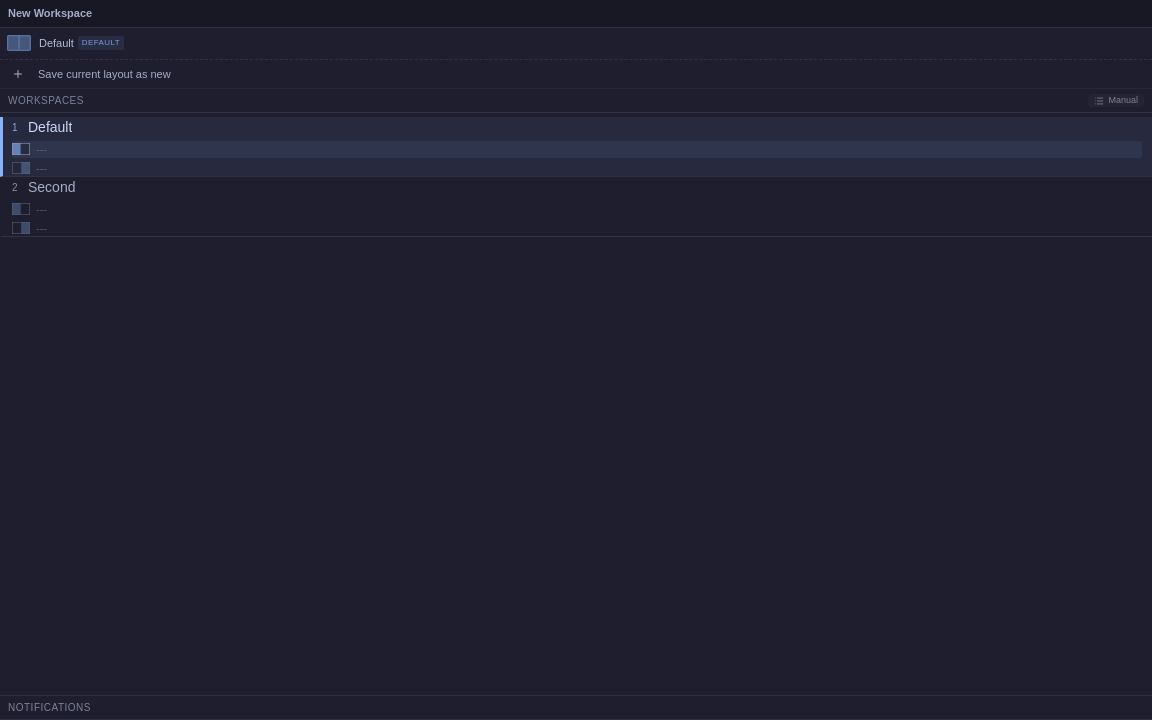
Test: WorkspaceSelectorView › starts the undo grace period on the first close click even with confirmation enabled
Step 1. Hover over the element showing "2 Second --- ---" → [576, 207], box [0,177,1151,237]
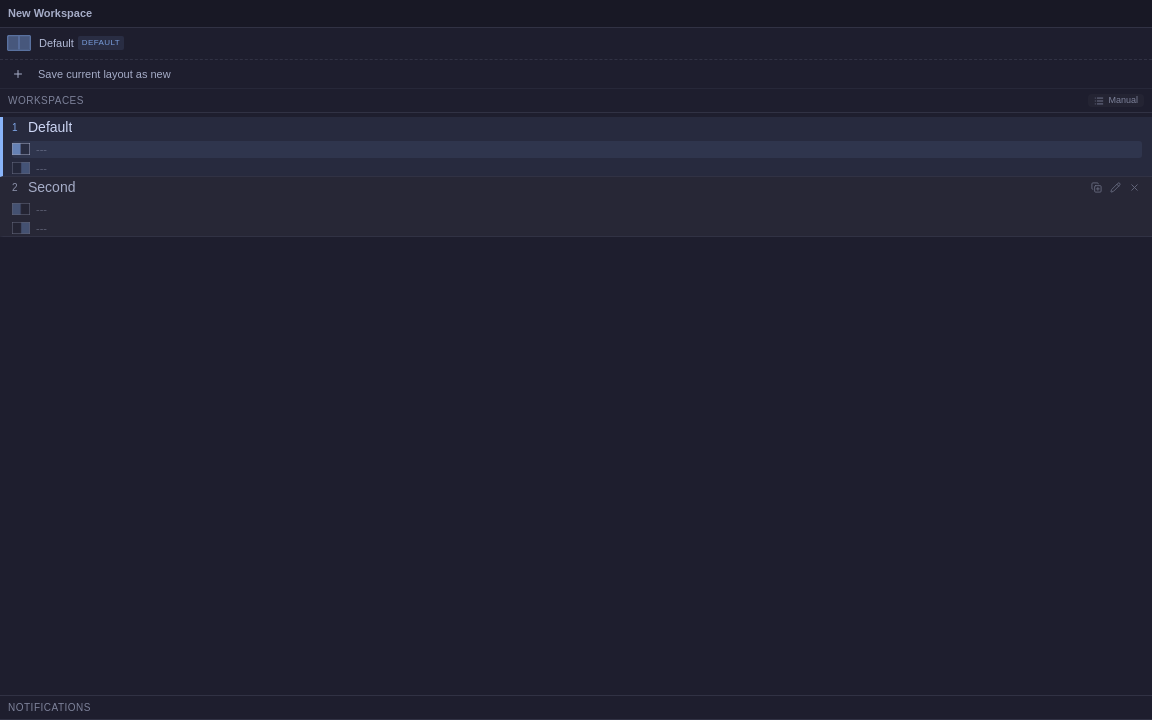
Step 2. Click the button named "Close workspace (Ctrl+Alt+W)" → [1134, 187], box [1127,180,1142,194]
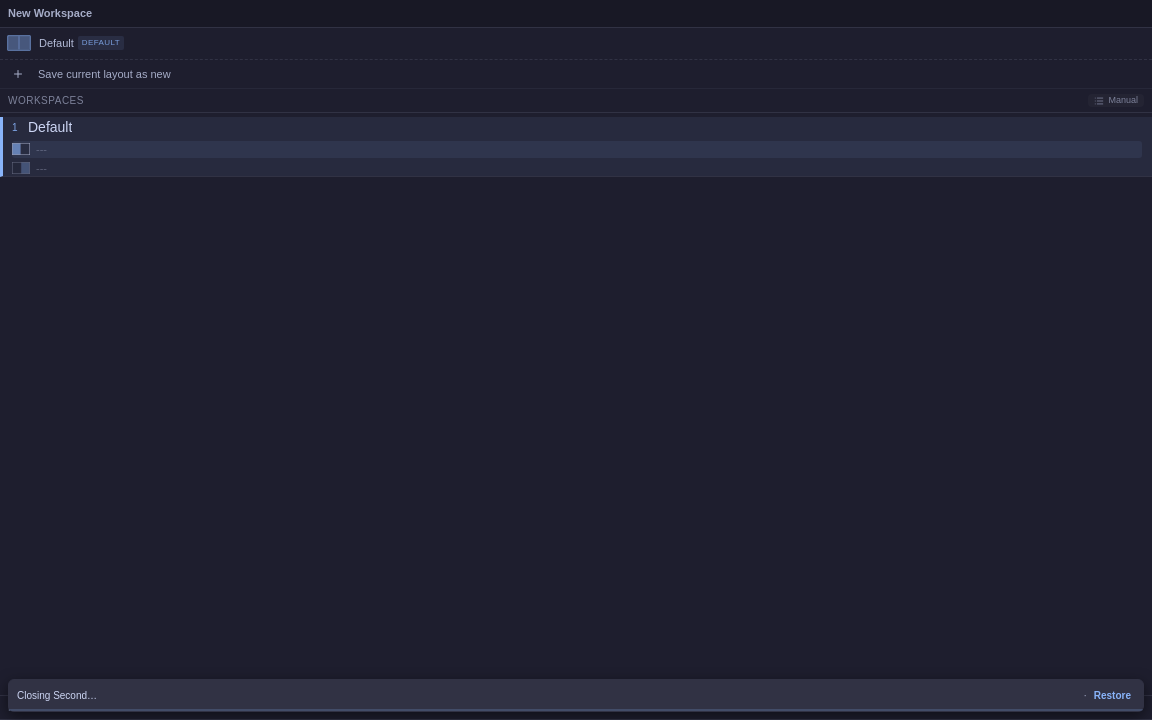
Expected: the message shows "Second", [17,690,97,701]
Expected: the element showing "Closing Second… · Restore" is shown, [8,679,1144,712]
